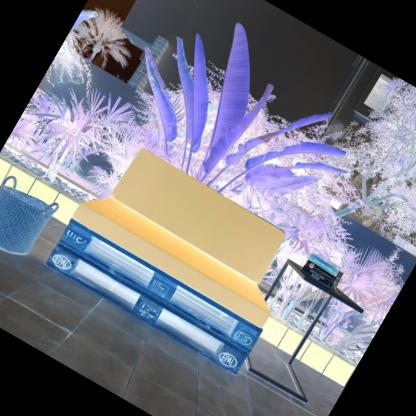BoxFace: (44, 240, 252, 378), (56, 215, 260, 353)
